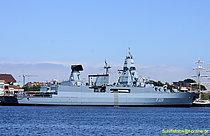MIL_Ship: (14, 54, 201, 107)
